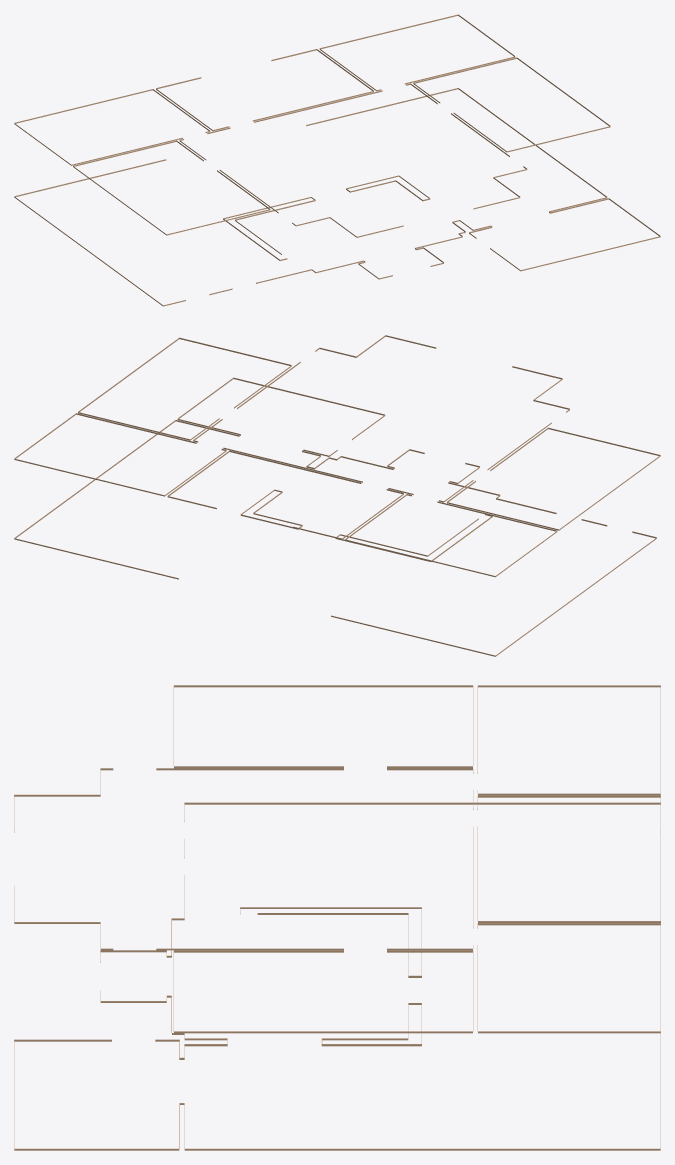
File: Akademik_listwy.fbx
3 renders of one model, top to bottom at view 1: azimuth 30°, elevation 25°; view 2: azimuth 150°, elevation 25°; view 3: azimuth 270°, elevation 25°, orthographic. The views are drawn at different scales.
Parts seen in each view (by area): view 1: Model; view 2: Model; view 3: Model.
Boxes of the visible parts, x1,y1,x2,y2 form: Model: (14, 14, 660, 306); Model: (14, 335, 660, 656); Model: (14, 685, 660, 1150).
Bounding box in the file's own units: 19 × 3.05 × 15.
